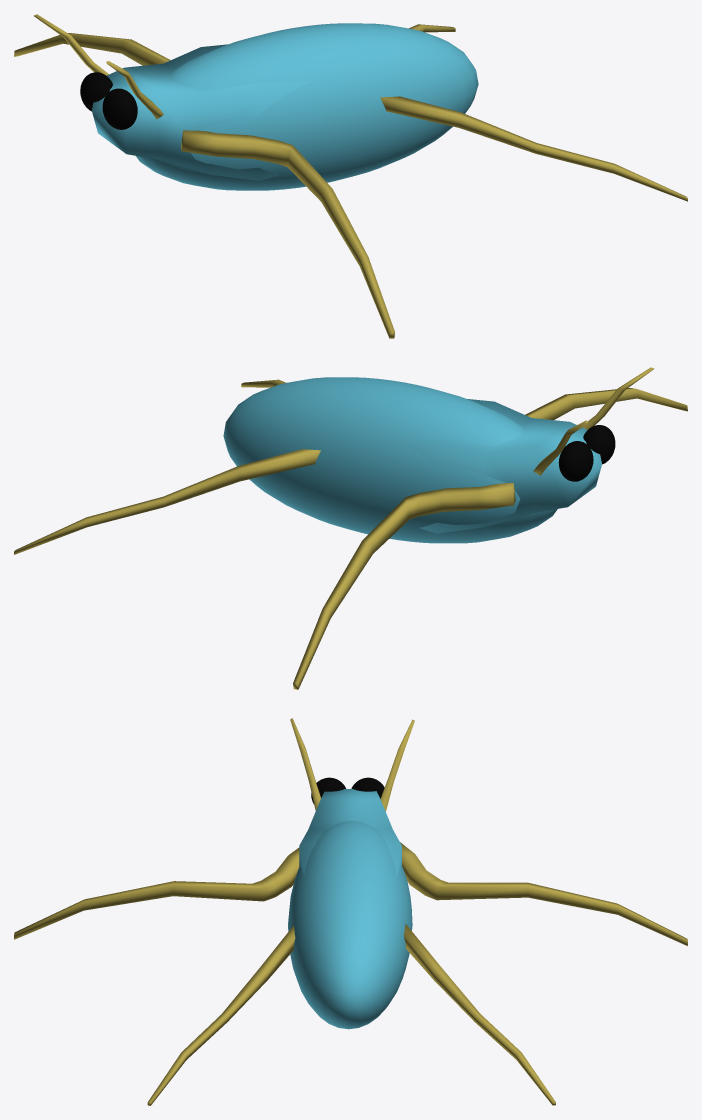
File: pondskater.fbx
3 views of the same model, one above another, from view 1: azimuth 30°, elevation 25°; view 2: azimuth 150°, elevation 25°; view 3: azimuth 270°, elevation 25° (orthographic). The views are drawn at different scales.
Parts seen in each view (by area): view 1: Sphere, Cube, Cube.001, Cube.003, Cube.002, Sphere.001, Sphere.002, Cube.005, Cube.006; view 2: Sphere, Cube, Cube.002, Cube.004, Cube.001, Sphere.002, Sphere.001, Cube.006, Cube.005; view 3: Sphere, Cube.002, Cube.001, Cube, Cube.004, Cube.003, Cube.005, Cube.006.
Boxes of the visible parts, x1,y1,x2,y2 form: Sphere: (136,23,478,190); Cube: (91,44,316,180); Cube.001: (181,130,394,338); Cube.003: (380,96,687,201); Cube.002: (14,33,170,65); Sphere.001: (102,88,137,129); Sphere.002: (80,72,112,111); Cube.005: (34,14,108,75); Cube.006: (106,61,163,119); Sphere: (223,377,557,543); Cube: (376,399,601,533); Cube.002: (293,483,515,689); Cube.004: (14,449,320,554); Cube.001: (525,388,687,420); Sphere.002: (558,441,593,481); Sphere.001: (583,425,615,464); Cube.006: (582,367,654,429); Cube.005: (533,420,588,475); Sphere: (288,821,412,1029); Cube.002: (400,842,687,945); Cube.001: (14,847,299,939); Cube: (299,789,401,877); Cube.004: (404,924,555,1105); Cube.003: (147,925,295,1105); Cube.005: (380,719,414,811); Cube.006: (290,718,320,810).
Size of the model in its own units: 180 by 68.73 by 239.
